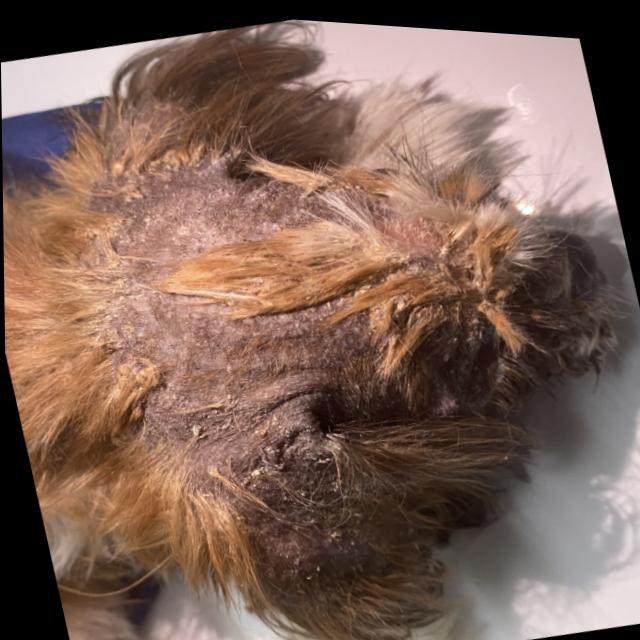demodicosis: (127, 294, 383, 529), (107, 143, 292, 266)
